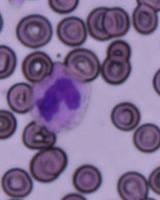N: (28, 61, 90, 133)
